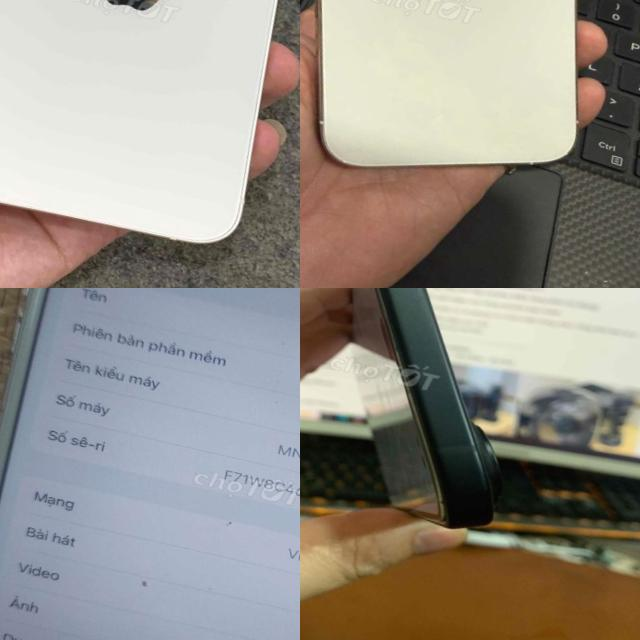gen_12_13: (0, 0, 300, 259), (300, 0, 640, 203)
gen_16: (350, 288, 500, 527)
gen_7_8: (0, 288, 300, 640)
